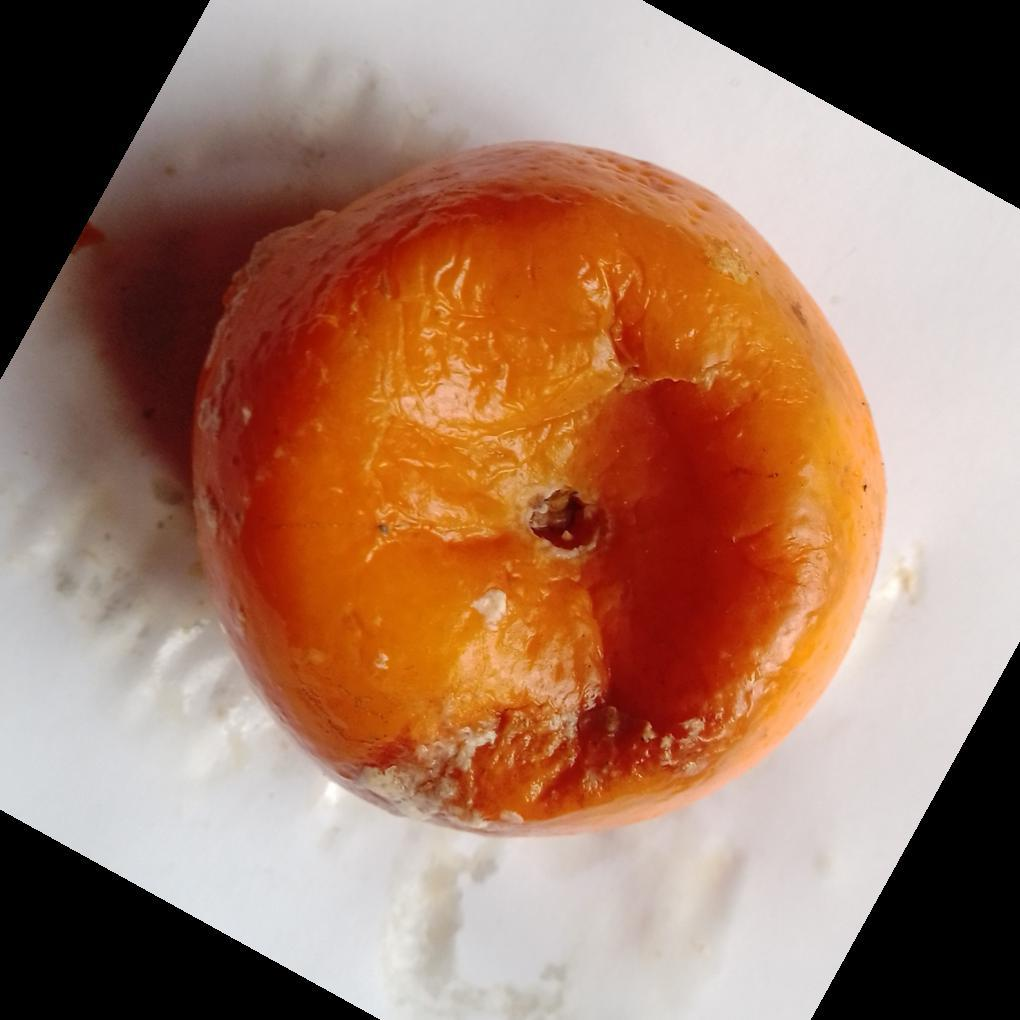FreshOrange: (186, 142, 888, 840)
